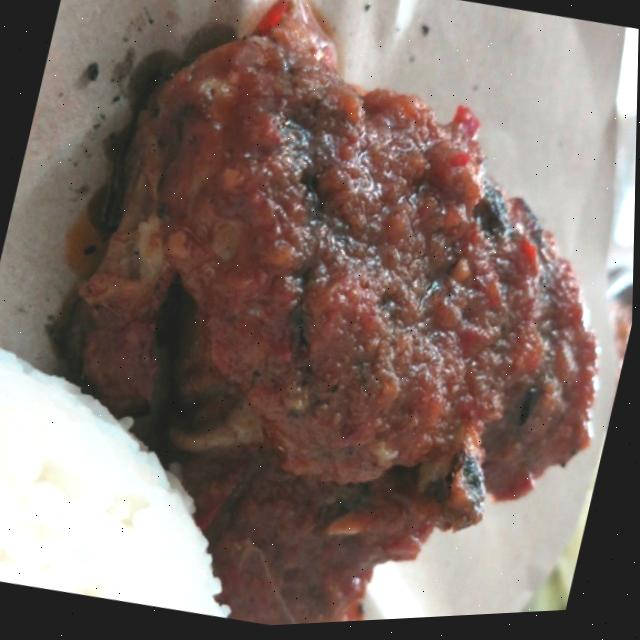鸡肉料理 含炸鸡: (25, 0, 640, 639)
